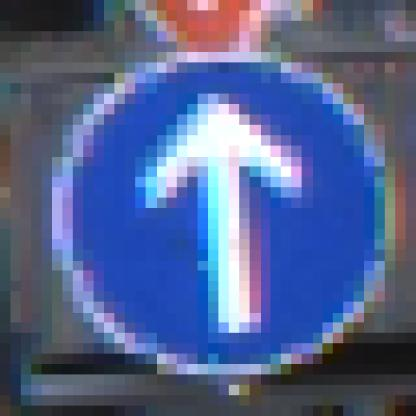AheadOnly: (63, 63, 365, 365)
